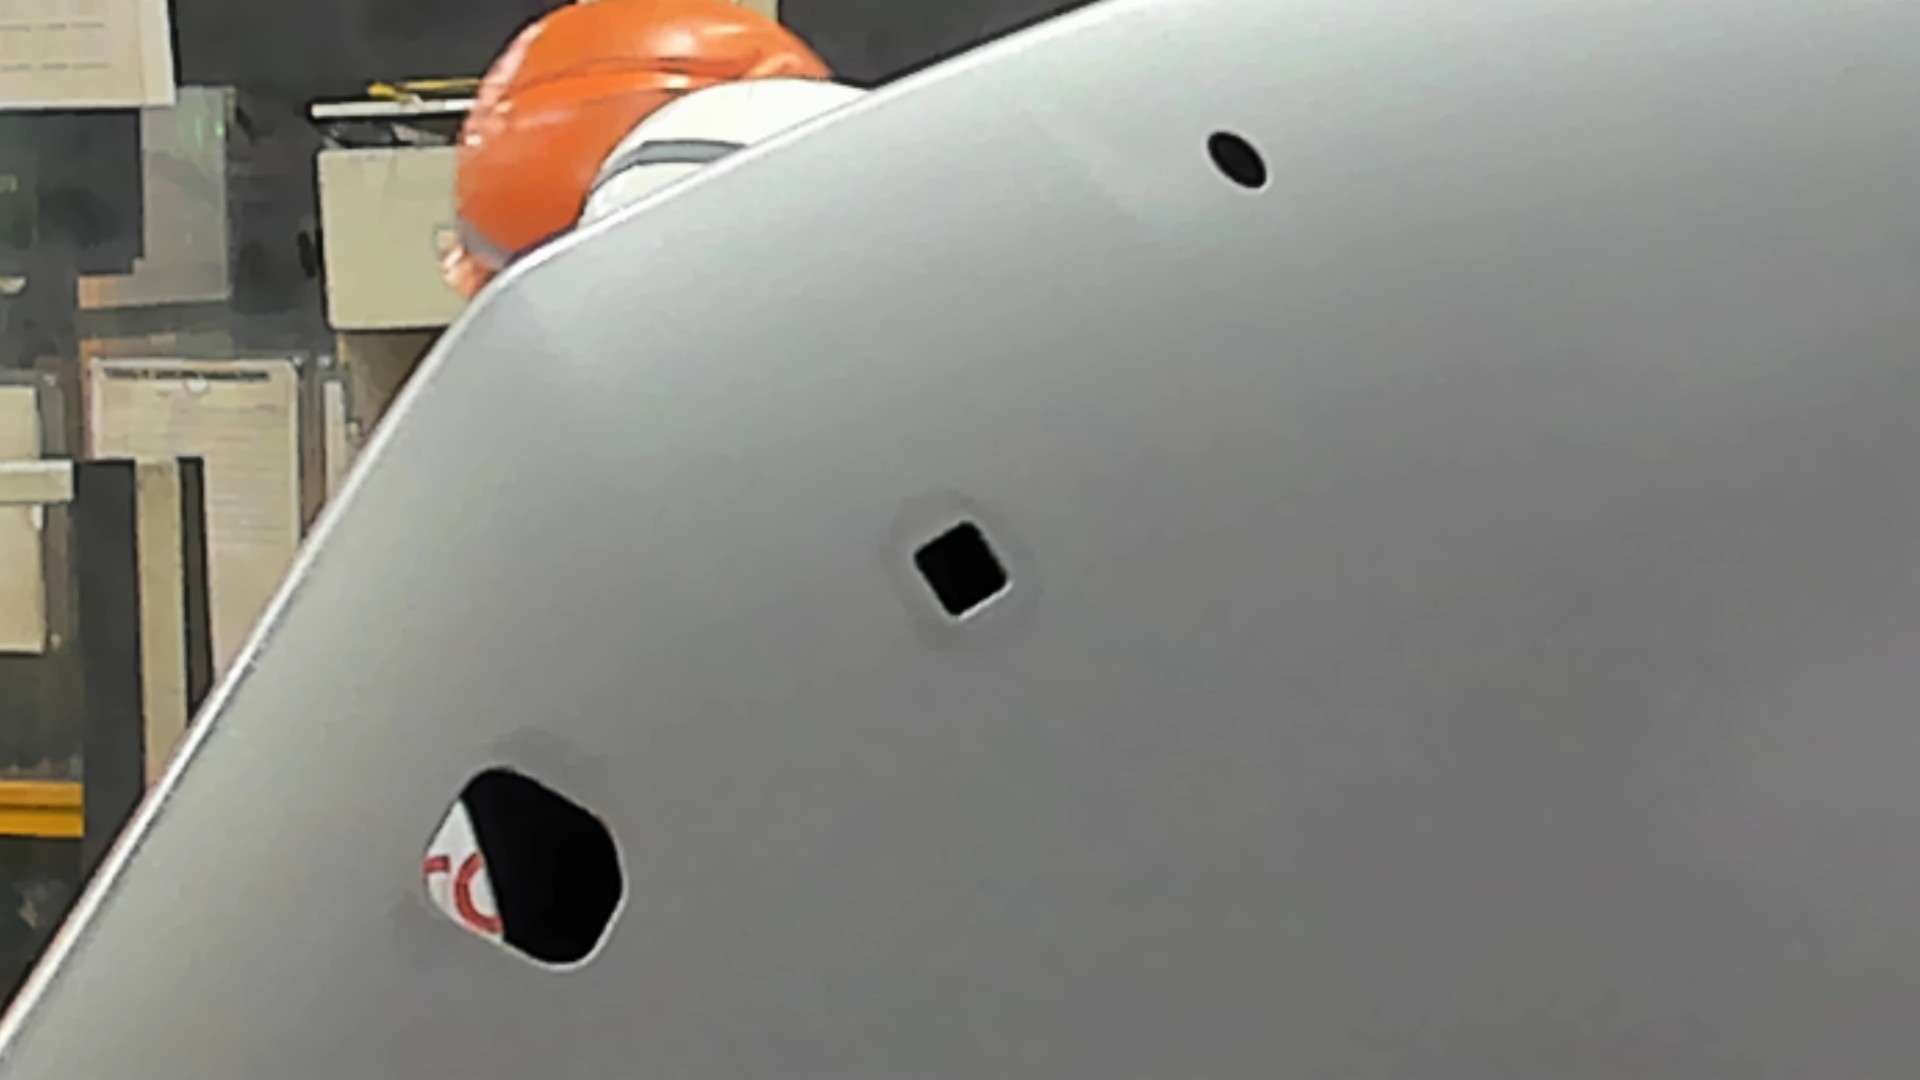Agujero: (911, 517, 1014, 622), (1204, 129, 1273, 190)
Agujerote: (422, 760, 632, 971)
